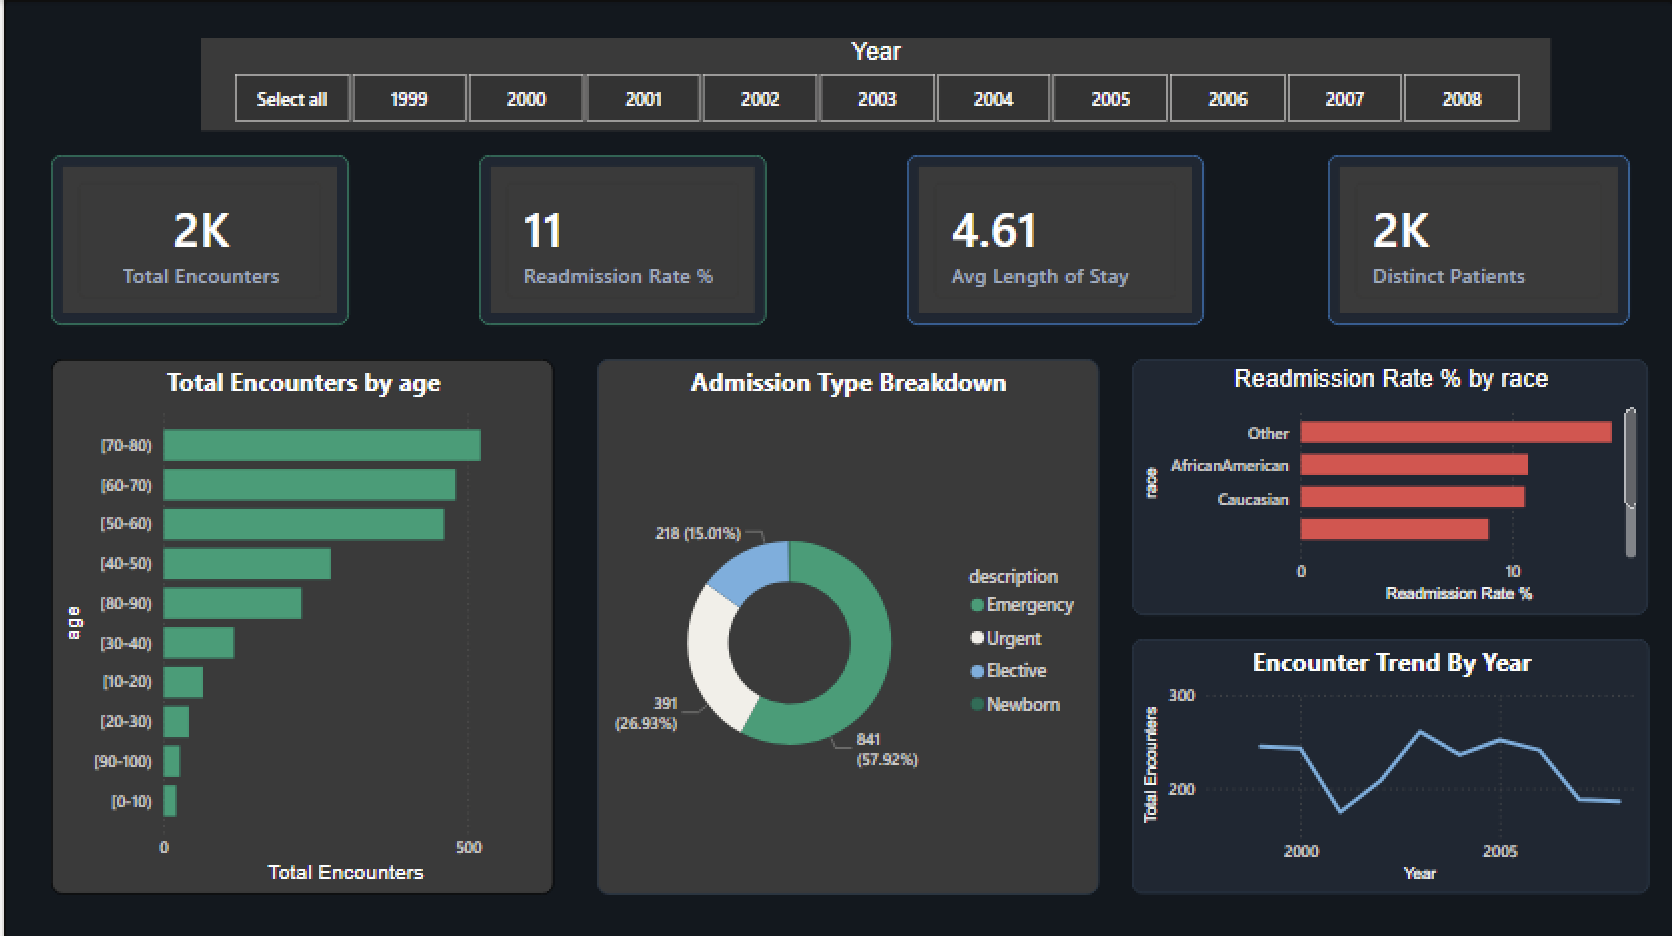

What the dashboard file says about the page in this screenshot:
{"tool":"powerbi","page":{"name":"Executive Summary","canvas":[1280,720],"ordinal":0},"visuals":[{"type":"cardVisual","fields":{"Data":["_Measures.Distinct Patients"]},"box":[1014.5,119.1,231.5,130.5],"z":0},{"type":"cardVisual","fields":{"Data":["_Measures.Total Encounters"]},"box":[37.4,119.1,228.1,130.5],"z":1000},{"type":"cardVisual","fields":{"Data":["_Measures.Avg Length of Stay"]},"box":[692.1,119.4,228.1,130.1],"z":2000},{"type":"cardVisual","fields":{"Data":["_Measures.Readmission Rate %"]},"box":[364.4,119.4,220.5,130.1],"z":3000},{"type":"lineChart","title":"Encounter Trend By Year","fields":{"Category":["dim_date.Year"],"Y":["_Measures.Total Encounters"]},"box":[864.7,490.2,396,195.2],"z":4000},{"type":"clusteredBarChart","fields":{"Category":["diabetic_data.age"],"Y":["_Measures.Total Encounters"]},"box":[37.4,275.7,384.7,409.6],"z":5000},{"type":"donutChart","title":"Admission Type Breakdown","fields":{"Category":["dim_admission_type.description"],"Y":["_Measures.Total Encounters"]},"box":[455,275.7,384.7,409.6],"z":6000},{"type":"clusteredBarChart","fields":{"Category":["diabetic_data.race"],"Y":["_Measures.Readmission Rate %"]},"box":[865.1,275.6,395,196],"z":7000},{"type":"slicer","title":"Year","fields":{"Values":["dim_date.Year"]},"box":[152.1,28.4,1033.8,71.5],"z":8000}]}

Visuals, with their boxes in screenshot pixels (x1, y1, x2, y2), scaled from the page's 1280x720 canvas onto the 1672x936 screenshot:
cardVisual - _Measures.Distinct Patients: x1=1325 y1=155 x2=1628 y2=324
cardVisual - _Measures.Total Encounters: x1=49 y1=155 x2=347 y2=324
cardVisual - _Measures.Avg Length of Stay: x1=904 y1=155 x2=1202 y2=324
cardVisual - _Measures.Readmission Rate %: x1=476 y1=155 x2=764 y2=324
"Encounter Trend By Year" lineChart: x1=1130 y1=637 x2=1647 y2=891
clusteredBarChart - diabetic_data.age x _Measures.Total Encounters: x1=49 y1=358 x2=551 y2=891
"Admission Type Breakdown" donutChart: x1=594 y1=358 x2=1097 y2=891
clusteredBarChart - diabetic_data.race x _Measures.Readmission Rate %: x1=1130 y1=358 x2=1646 y2=613
"Year" slicer: x1=199 y1=37 x2=1549 y2=130
